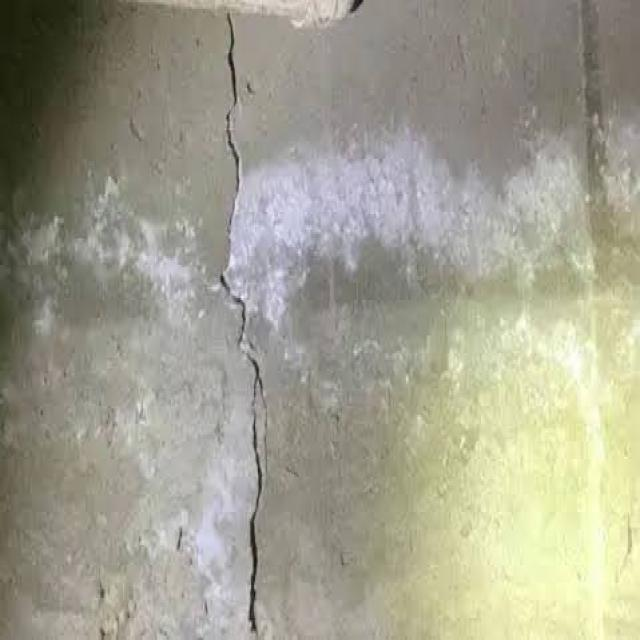efflorescence: (9, 111, 639, 639)
